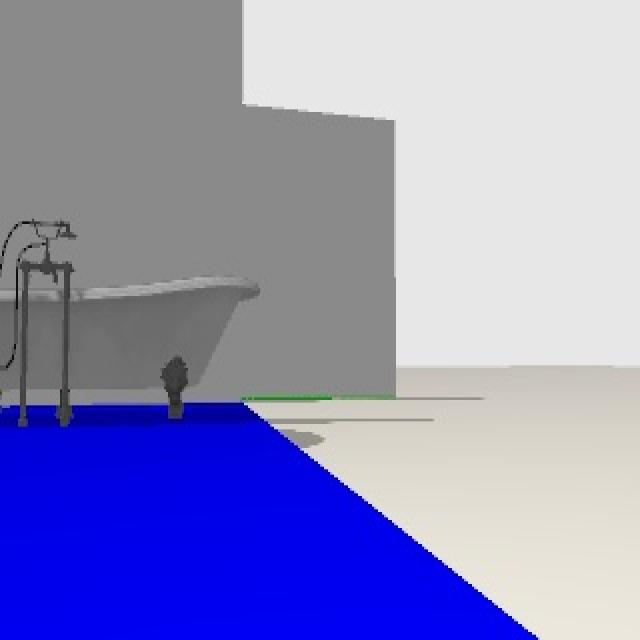bathtub: (0, 224, 262, 427)
